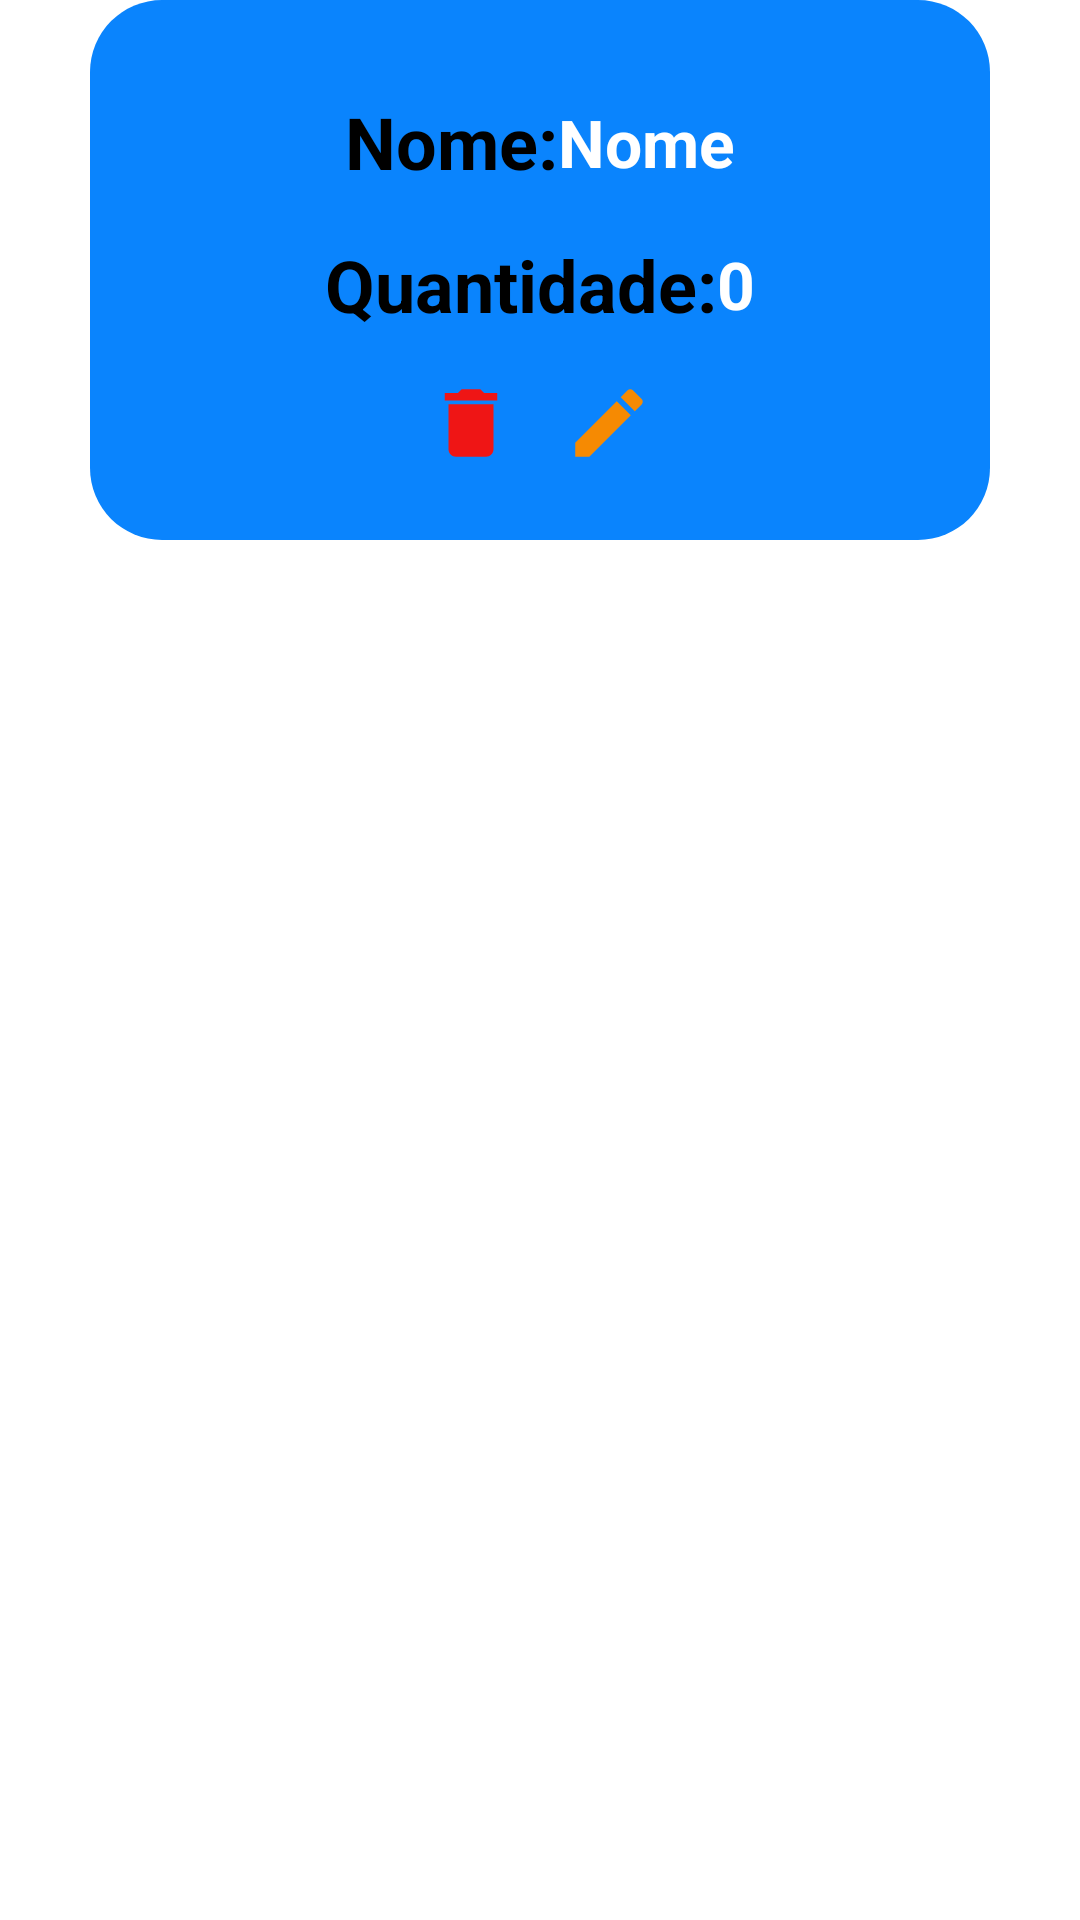

Locate icon controls on the screen. Image size 1080×1920, boxes as Rect(x1, y1, x2, y2).
delete: Rect(444, 389, 498, 457)
edit: Rect(575, 389, 643, 457)
